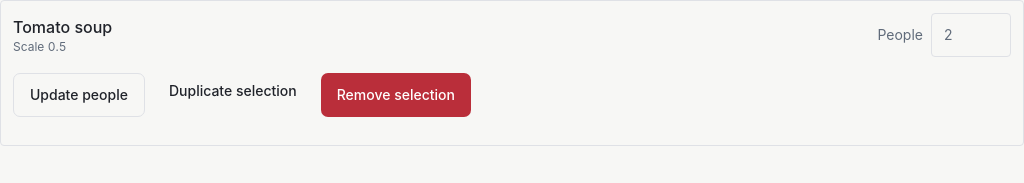
Test case: SelectionPeopleForm › duplicates one selection only after the explicit duplicate action
The width and height of the screenshot is (1024, 183).
Click the button "Duplicate selection" at (233, 91), box [153,69,313,113]
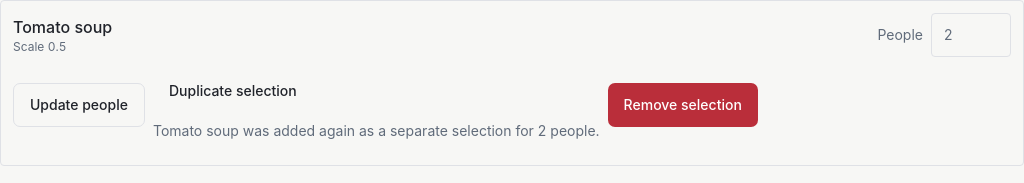
Result: the text "Tomato soup was added again as a separate selection for 2 people." is shown at [153,121,600,141]
